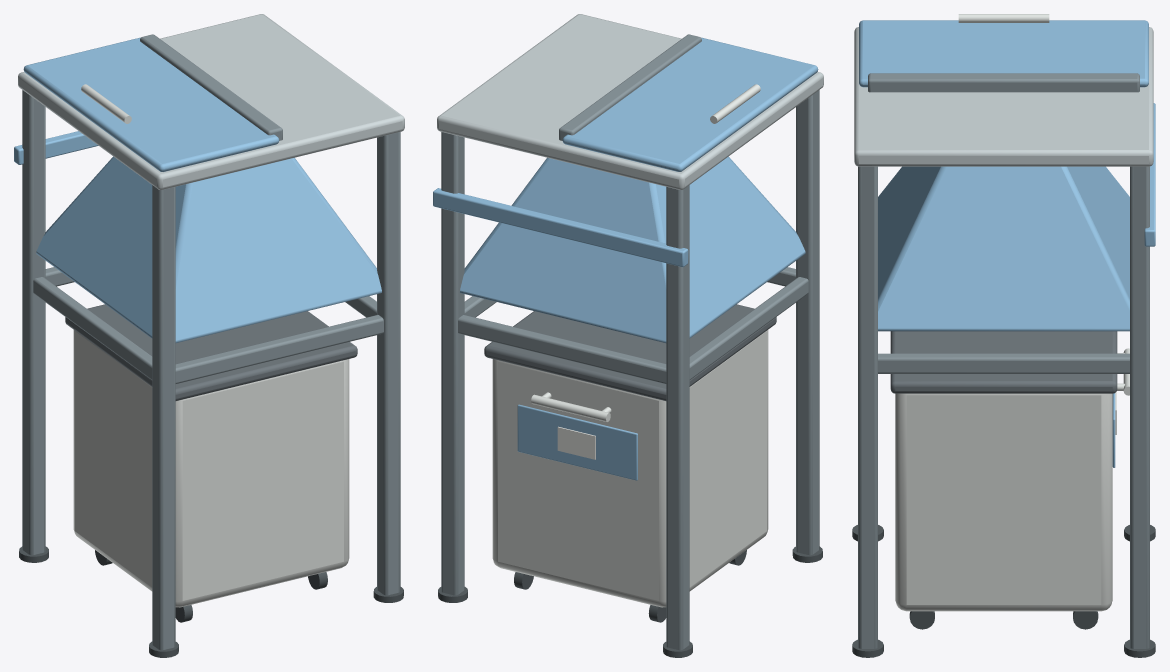
The model's file is recycling_hopper_plastics.glb.
3 views of the same model, side by side, from view 1: azimuth 30°, elevation 25°; view 2: azimuth 150°, elevation 25°; view 3: azimuth 270°, elevation 25° (orthographic). The views are drawn at different scales.
Parts seen in each view (by area): view 1: bin_warm_panel, frame_dark_alloy, funnel_cool_blue, rim_alloy, lid_cool_blue, bin_rim_graphite, lid_hinge_dark_alloy, frame_band_cool_blue, bin_wheels_black_rubber; view 2: bin_warm_panel, frame_dark_alloy, funnel_cool_blue, rim_alloy, lid_cool_blue, bin_rim_graphite, frame_band_cool_blue, bin_label_cool_blue, lid_hinge_dark_alloy, bin_label_mark_white_painted, bin_handle_satin_steel, bin_wheels_black_rubber; view 3: bin_warm_panel, funnel_cool_blue, frame_dark_alloy, rim_alloy, lid_cool_blue, bin_rim_graphite, lid_hinge_dark_alloy, bin_wheels_black_rubber, lid_handle_satin_steel, frame_band_cool_blue.
Boxes of the visible parts, x1,y1,x2,y2 form: bin_warm_panel: (73,330,349,607); frame_dark_alloy: (19,90,403,657); funnel_cool_blue: (36,156,381,342); rim_alloy: (18,14,404,189); lid_cool_blue: (23,37,279,171); bin_rim_graphite: (65,304,357,400); lid_hinge_dark_alloy: (140,34,282,140); frame_band_cool_blue: (14,131,98,164); bin_wheels_black_rubber: (95,550,327,622); bin_warm_panel: (492,330,768,607); frame_dark_alloy: (438,90,822,657); funnel_cool_blue: (460,156,805,342); rim_alloy: (437,14,823,189); lid_cool_blue: (562,37,818,171); bin_rim_graphite: (484,304,776,400); frame_band_cool_blue: (433,188,688,267); bin_label_cool_blue: (517,404,637,480); lid_hinge_dark_alloy: (559,34,701,140); bin_label_mark_white_painted: (557,426,595,459); bin_handle_satin_steel: (531,392,611,421); bin_wheels_black_rubber: (514,550,746,622); bin_warm_panel: (895,393,1112,611); funnel_cool_blue: (878,166,1129,331); frame_dark_alloy: (852,166,1155,657); rim_alloy: (854,27,1153,166); lid_cool_blue: (859,20,1148,87); bin_rim_graphite: (890,331,1117,393); lid_hinge_dark_alloy: (868,73,1139,92); bin_wheels_black_rubber: (909,611,1098,629); lid_handle_satin_steel: (958,14,1049,22); frame_band_cool_blue: (1144,103,1155,246).
Size of the model in its own units: 0.67 by 1.28 by 0.67.
